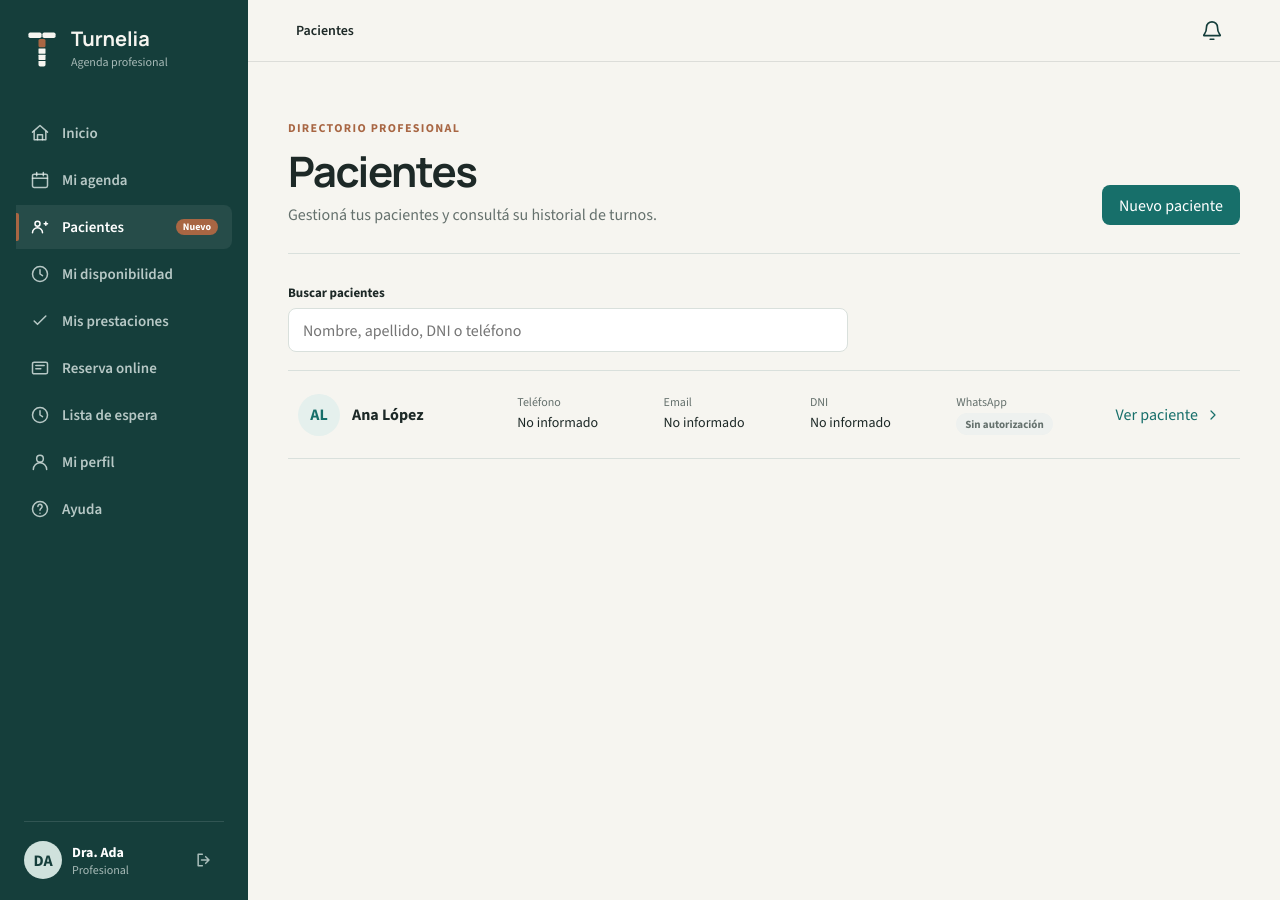
Test: Pacientes profesional › renderiza historial de evoluciones
The image size is (1280, 900).
Click the button "Ver paciente" at (1168, 414), box [1106,398,1230,432]
(page scrolled)
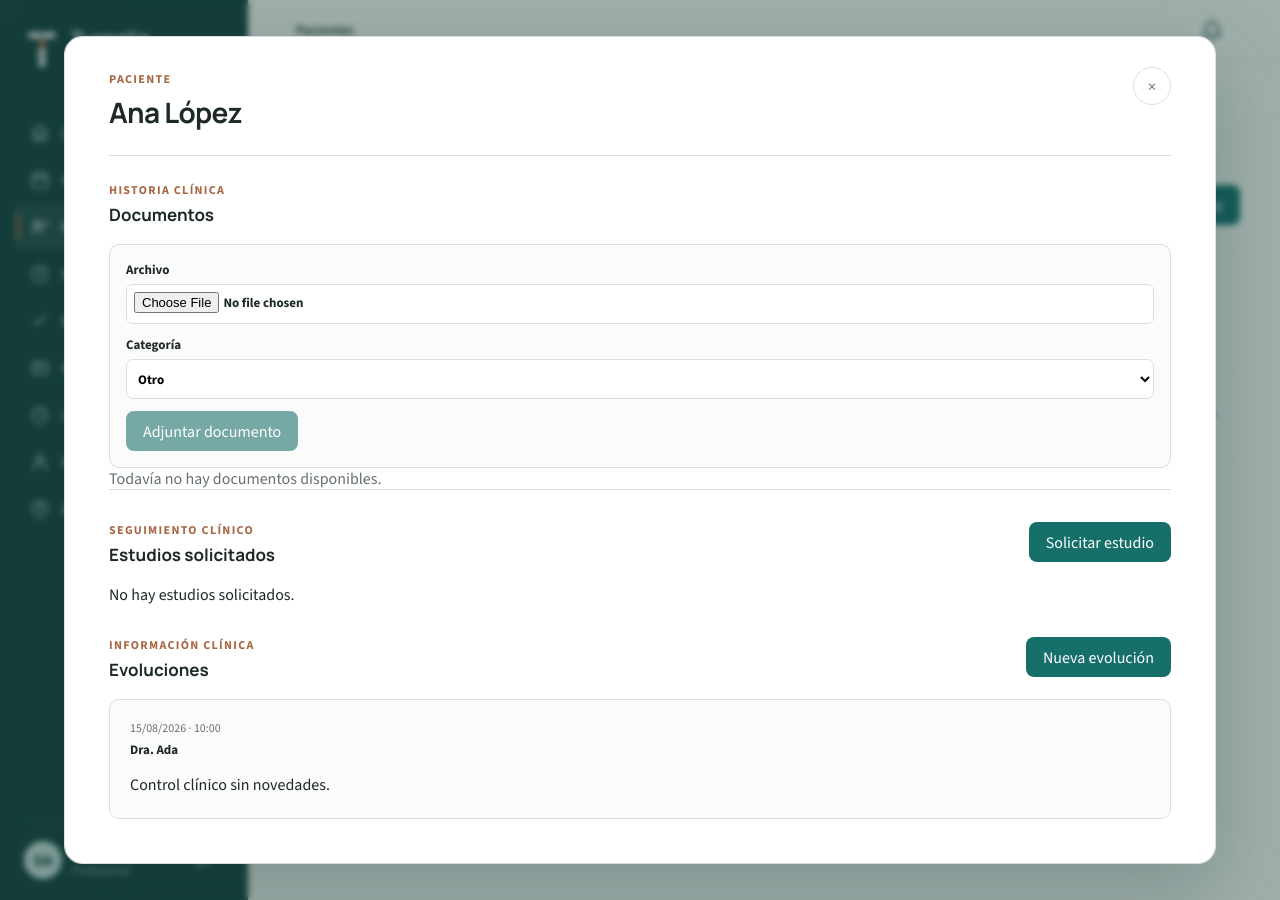
Expected: the text "Control clínico sin novedades." is shown, [130,774,330,795]
Expected: the text "15/08/2026 · 10:00" is shown, [130,720,221,736]
Expected: the text "Dra. Ada" is shown 2 times, [72,842,124,862]; [130,741,178,758]
